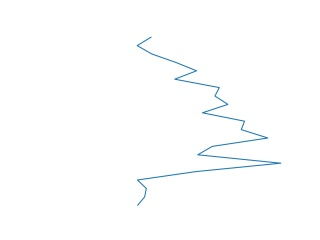floodSwamp: (132, 40, 285, 204)
